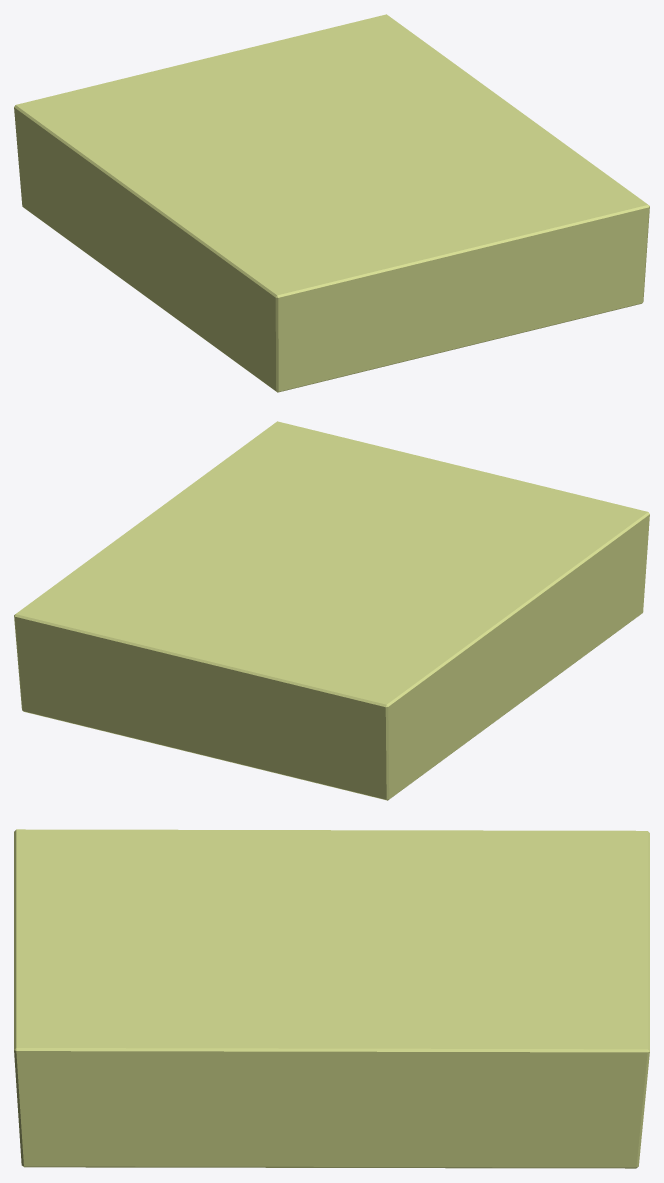
3 views of the same model, one above another, from view 1: azimuth 30°, elevation 25°; view 2: azimuth 150°, elevation 25°; view 3: azimuth 270°, elevation 25° (orthographic). The views are drawn at different scales.
Visible parts, largest first — view 1: file_box_33; view 2: file_box_33; view 3: file_box_33.
Boxes of the visible parts, box(x1,y1,x2,y2) form: file_box_33: box(14, 14, 649, 392); file_box_33: box(14, 421, 649, 800); file_box_33: box(14, 829, 649, 1168).
Bounding box in the file's own units: 0.2941 × 0.0763 × 0.3586.
